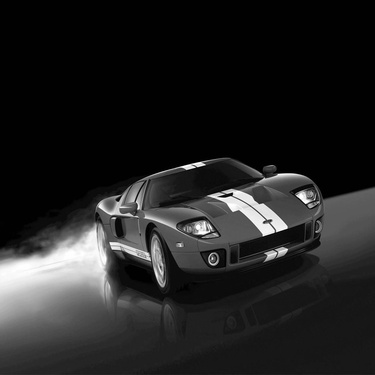car: (68, 149, 345, 278)
